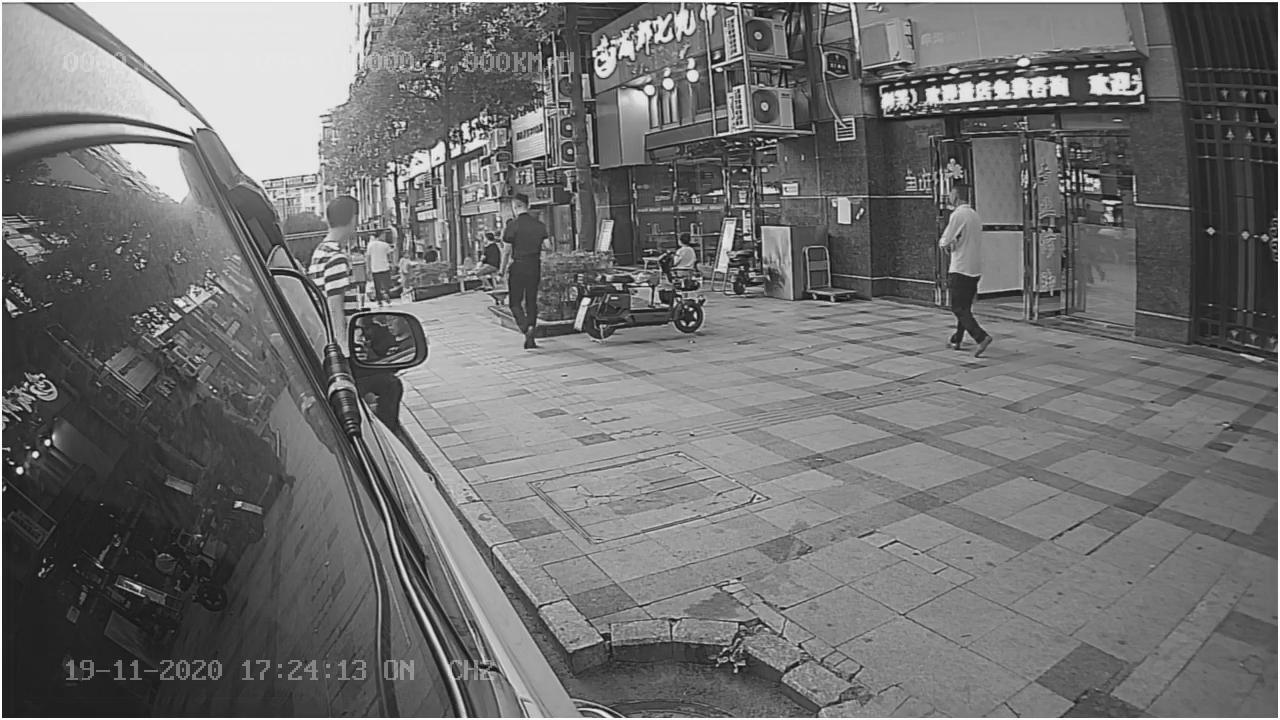person: (931, 173, 996, 362), (488, 194, 544, 355)
